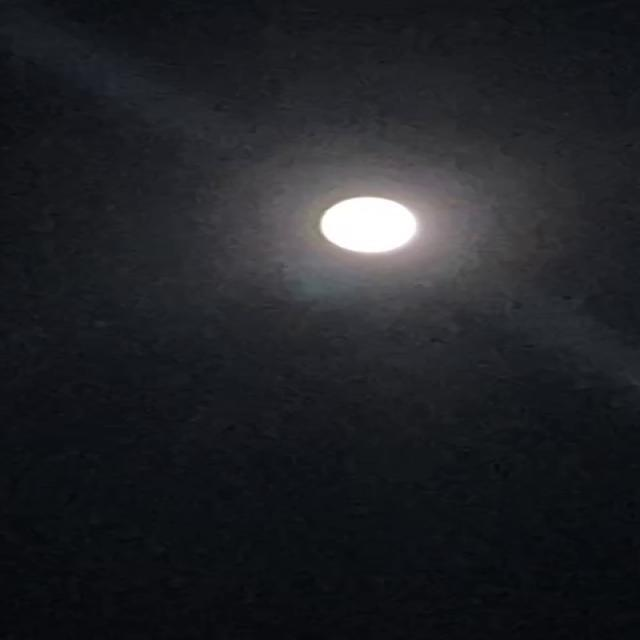moon: (310, 196, 434, 262)
